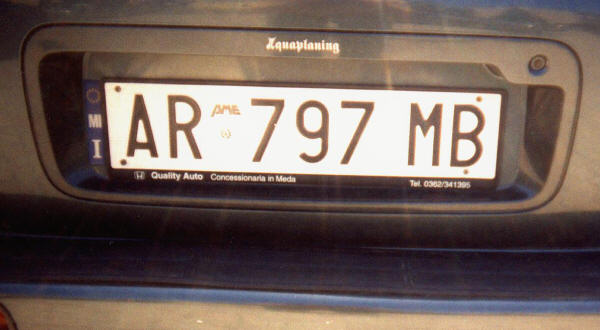license_plate: (101, 77, 506, 188)
